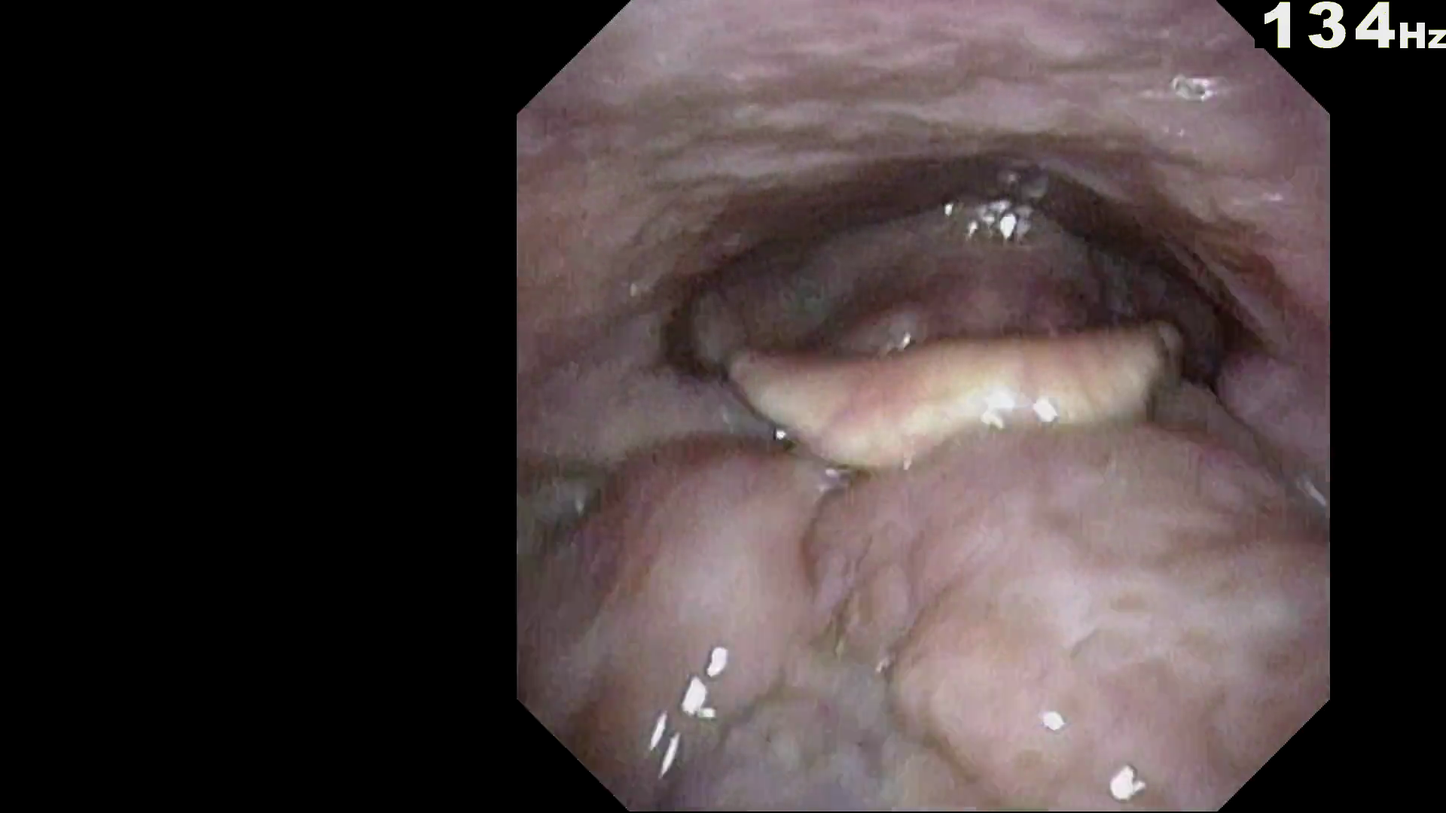epiglottis: (734, 351, 1212, 478)
